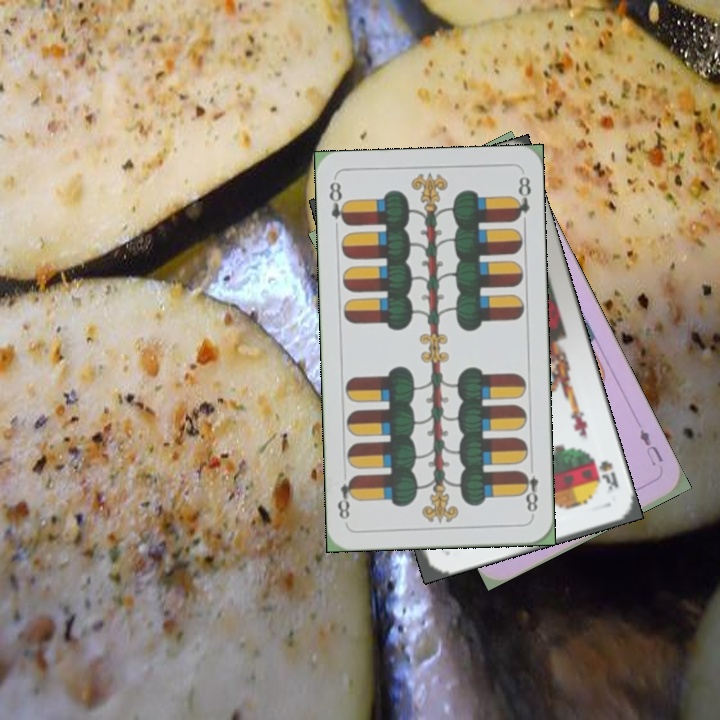E8: (517, 460, 541, 519), (325, 178, 351, 228)
EU: (635, 424, 666, 469)
SK: (595, 456, 622, 493)
